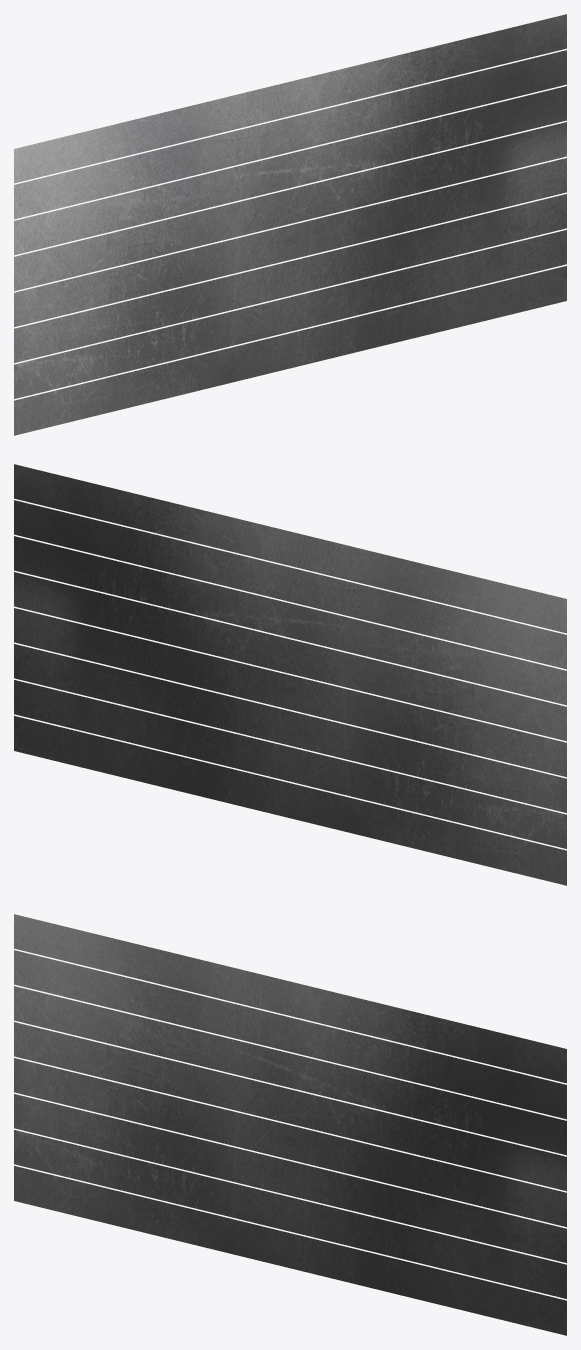
Rendered from RendijaBoliche.obj.
The picture shows the model from 3 angles, top to bottom: view 1: azimuth 30°, elevation 25°; view 2: azimuth 150°, elevation 25°; view 3: azimuth 330°, elevation 25°; orthographic projection.
Visible parts, largest first — view 1: Rendija; view 2: Rendija; view 3: Rendija.
Boxes of the visible parts, bbox=[...] form: Rendija: bbox=[14, 14, 566, 435]; Rendija: bbox=[14, 464, 566, 885]; Rendija: bbox=[14, 914, 566, 1335].
Size of the model in its own units: 7.37 by 3.65 by 0.
